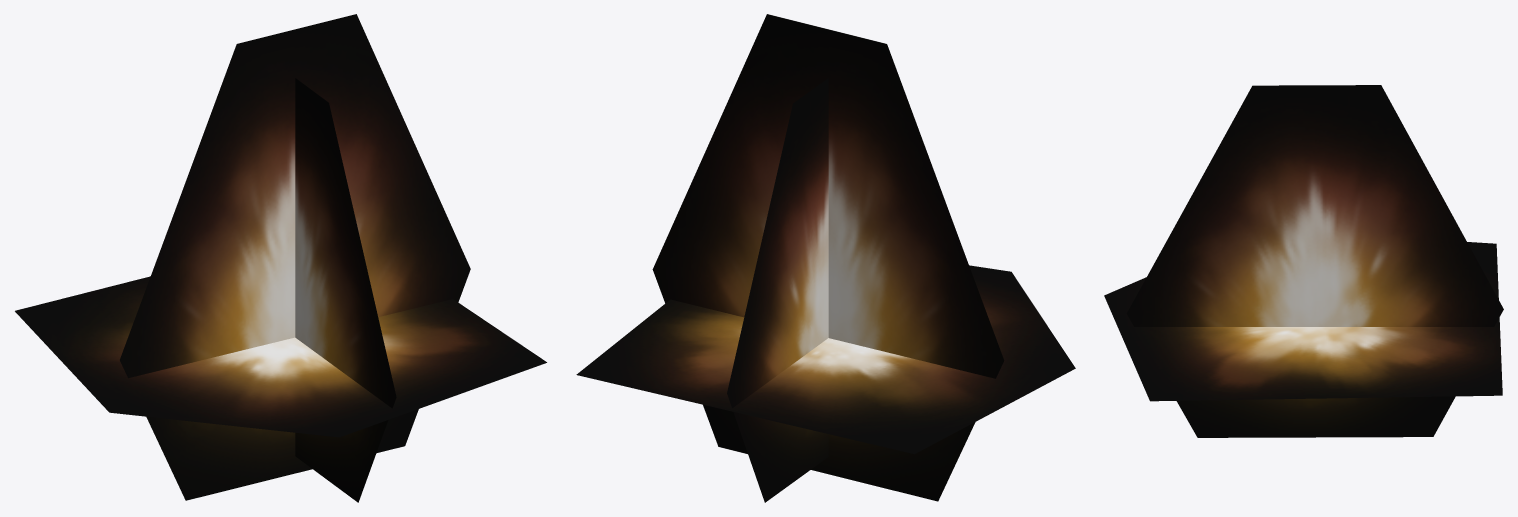
File: HandGunMuzzleFlash.fbx
The picture shows the model from 3 angles, left to right: view 1: azimuth 30°, elevation 25°; view 2: azimuth 150°, elevation 25°; view 3: azimuth 270°, elevation 25°; orthographic projection. The views are drawn at different scales.
Parts seen in each view (by area): view 1: HandgunMuzzleFlash; view 2: HandgunMuzzleFlash; view 3: HandgunMuzzleFlash.
Boxes of the visible parts, x1,y1,x2,y2 form: HandgunMuzzleFlash: [15, 14, 546, 502]; HandgunMuzzleFlash: [576, 14, 1075, 502]; HandgunMuzzleFlash: [1104, 85, 1503, 437].
Size of the model in its own units: 9.28 by 10.07 by 8.82.
Materials: 1 (1 with a texture image).
